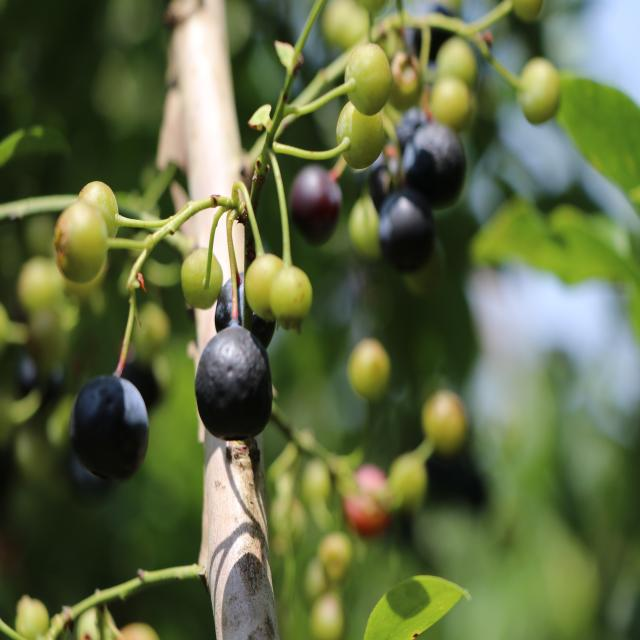blueberry: (68, 371, 148, 482), (196, 326, 272, 442), (403, 124, 471, 212), (378, 190, 438, 268), (215, 272, 276, 348), (290, 164, 341, 246)
blueberry-unripe: (50, 201, 110, 281), (334, 96, 391, 173), (345, 40, 396, 116), (517, 57, 563, 131), (346, 336, 394, 404), (270, 266, 314, 331), (243, 248, 280, 324), (179, 247, 222, 310), (75, 180, 120, 233)
